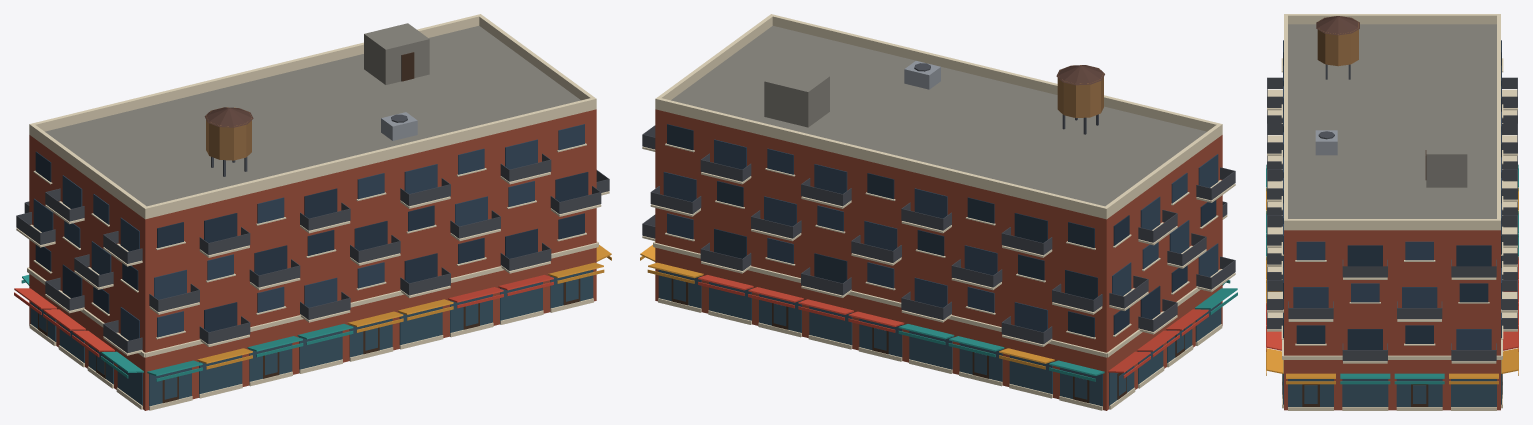
Rendered from apt_e.glb.
The picture shows the model from 3 angles, left to right: view 1: azimuth 30°, elevation 25°; view 2: azimuth 150°, elevation 25°; view 3: azimuth 270°, elevation 25°; orthographic projection. The views are drawn at different scales.
Parts seen in each view (by area): view 1: apt_e; view 2: apt_e; view 3: apt_e.
Boxes of the visible parts, x1,y1,x2,y2 form: apt_e: (14,14,611,410); apt_e: (640,14,1237,410); apt_e: (1266,14,1518,410).
Size of what is drawn, in the model's own units: 38.61 by 19.35 by 18.61.
